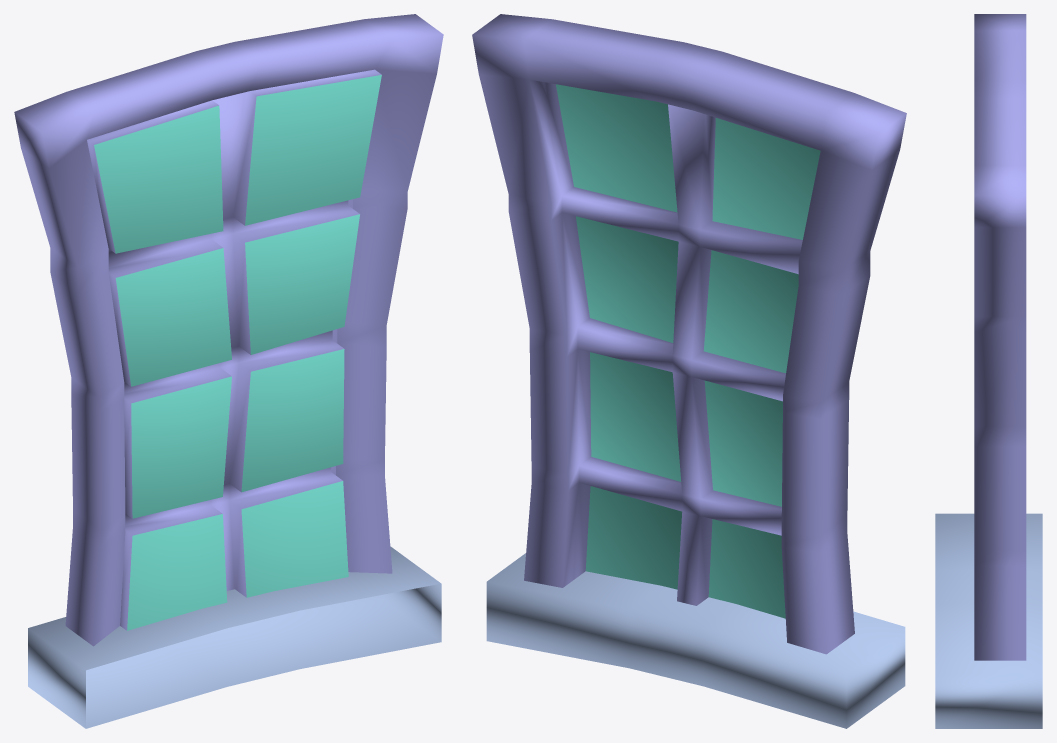
The model's file is Building_A_6.fbx.
3 views of the same model, side by side, from view 1: azimuth 30°, elevation 25°; view 2: azimuth 150°, elevation 25°; view 3: azimuth 270°, elevation 25° (orthographic). The views are drawn at different scales.
Visible parts, largest first — view 1: Building_A_6; view 2: Building_A_6; view 3: Building_A_6.
Boxes of the visible parts, x1=… form: Building_A_6: x1=14, y1=14, x2=443, y2=728; Building_A_6: x1=472, y1=14, x2=906, y2=728; Building_A_6: x1=935, y1=14, x2=1042, y2=728.
Size of the model in its own units: 108 by 155 by 26.99.
